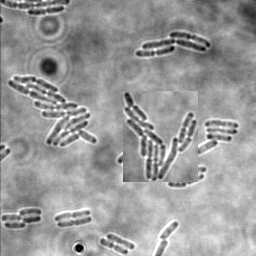Dividing: (167, 175, 204, 189), (99, 238, 128, 255), (54, 209, 90, 222), (56, 217, 92, 228), (27, 7, 64, 17)
Microcolony: (123, 91, 198, 182), (7, 76, 98, 147), (135, 32, 211, 57), (198, 120, 238, 155), (1, 208, 42, 229)
Rod: (106, 233, 135, 251), (157, 222, 178, 240)
